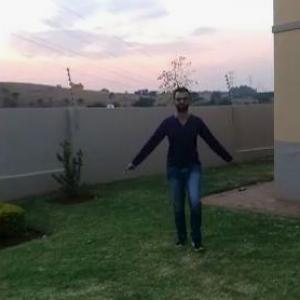land: (135, 92, 230, 226)
